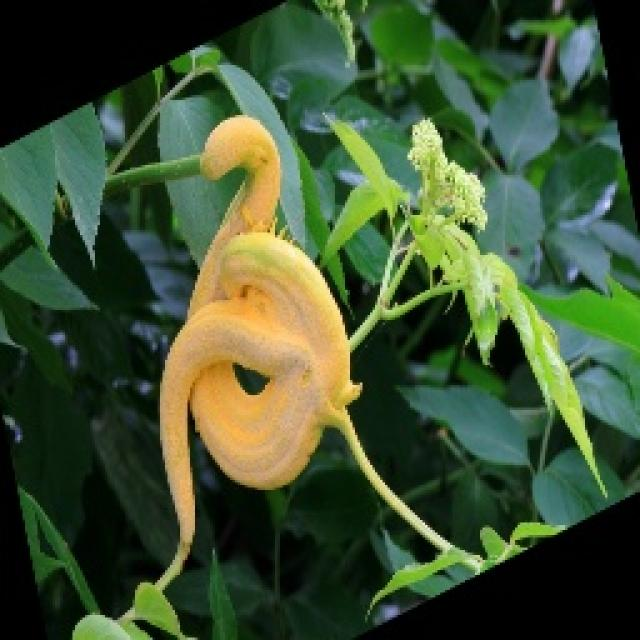Elderberry_rust: (152, 110, 480, 585)
